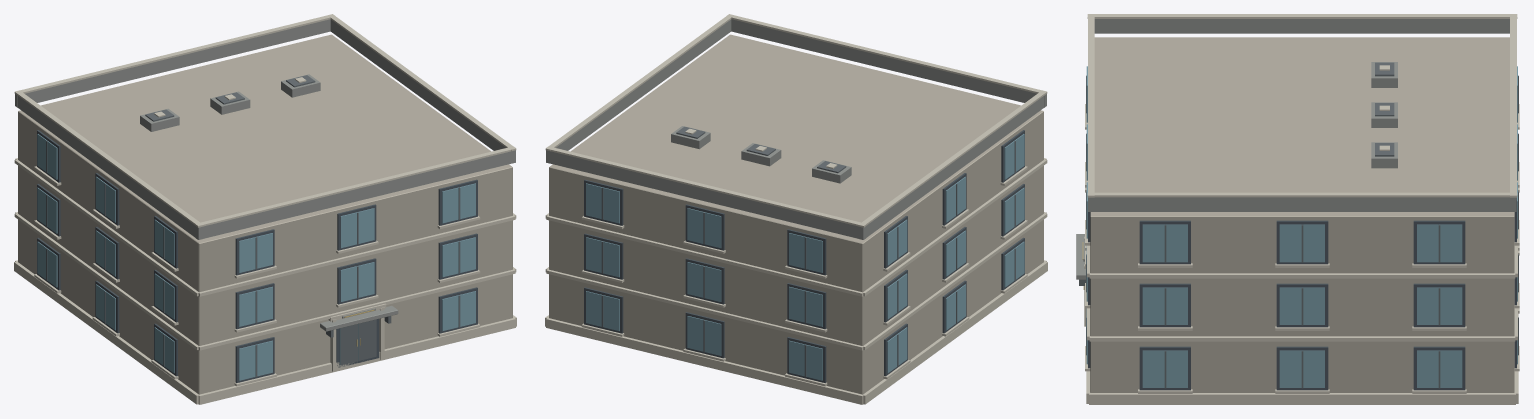
The model's file is 0-20261016-1900-ev066-r12-town-lotflagship.fbx.
The picture shows the model from 3 angles, left to right: view 1: azimuth 30°, elevation 25°; view 2: azimuth 150°, elevation 25°; view 3: azimuth 270°, elevation 25°; orthographic projection. The views are drawn at different scales.
Parts seen in each view (by area): view 1: SW_Town_LotFlagship; view 2: SW_Town_LotFlagship; view 3: SW_Town_LotFlagship.
Part boxes in pixels (x1=…): SW_Town_LotFlagship: x1=14, y1=14, x2=516, y2=404; SW_Town_LotFlagship: x1=545, y1=14, x2=1047, y2=404; SW_Town_LotFlagship: x1=1076, y1=14, x2=1519, y2=404.
Size of the model in its own units: 2378 by 1273 by 2427.
